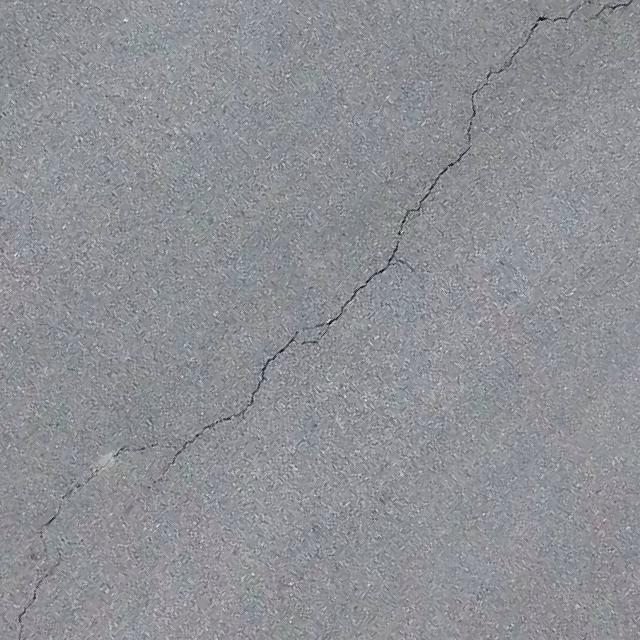GRIETA: (38, 34, 532, 556), (17, 574, 48, 639), (530, 3, 586, 33), (591, 0, 633, 19)
